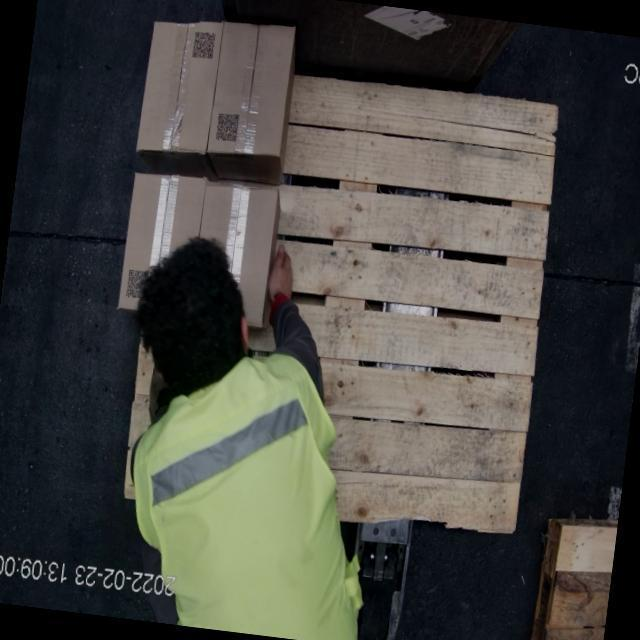box: (209, 21, 297, 161), (140, 16, 224, 158)
